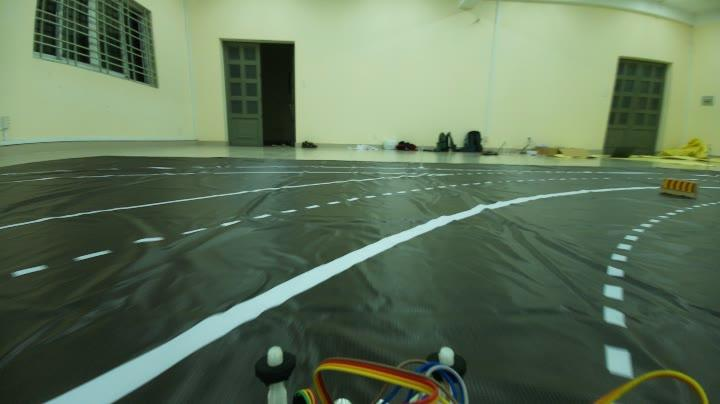roadblock: (651, 174, 701, 206)
